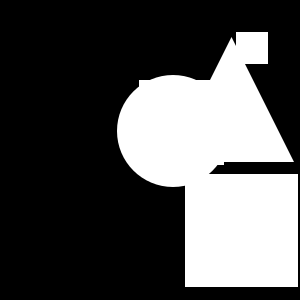circle: (185, 174, 298, 287), (139, 80, 224, 165), (236, 32, 268, 64)
rectangle: (117, 75, 229, 187)
triangle: (169, 37, 294, 162)
